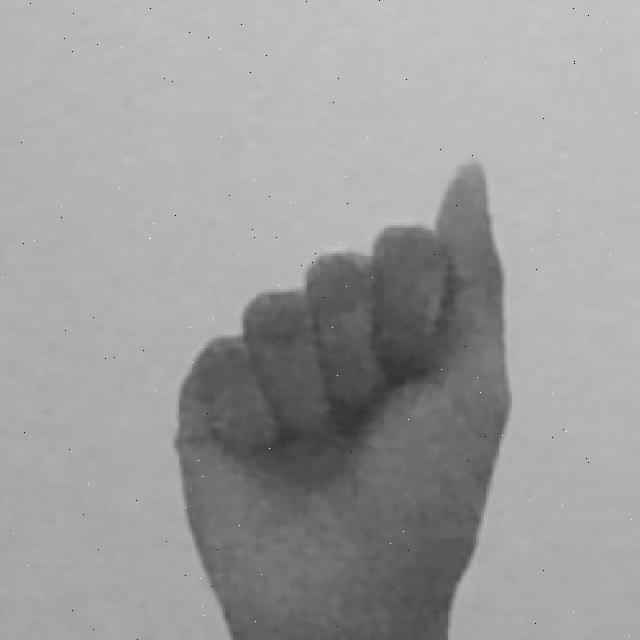A: (167, 156, 522, 640)
